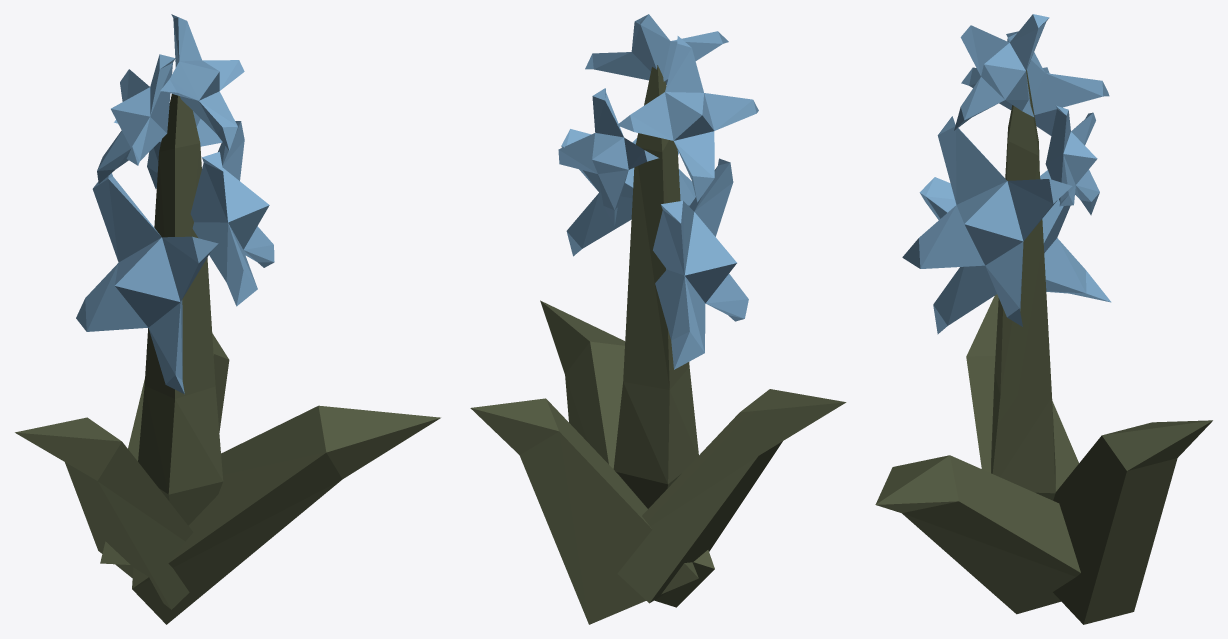
Rendered from nature_SM_Plant_03.gltf.
3 views of the same model, side by side, from view 1: azimuth 30°, elevation 25°; view 2: azimuth 150°, elevation 25°; view 3: azimuth 270°, elevation 25° (orthographic). The views are drawn at different scales.
Parts seen in each view (by area): view 1: SM_Plant_03; view 2: SM_Plant_03; view 3: SM_Plant_03.
Part boxes in pixels (x1,y1,x2,y2): SM_Plant_03: [15, 14, 440, 624]; SM_Plant_03: [470, 14, 846, 624]; SM_Plant_03: [875, 14, 1212, 624].
Bounding box in the file's own units: 0.5243 × 0.8136 × 0.4086.
Materials: 1 (1 with a texture image).
